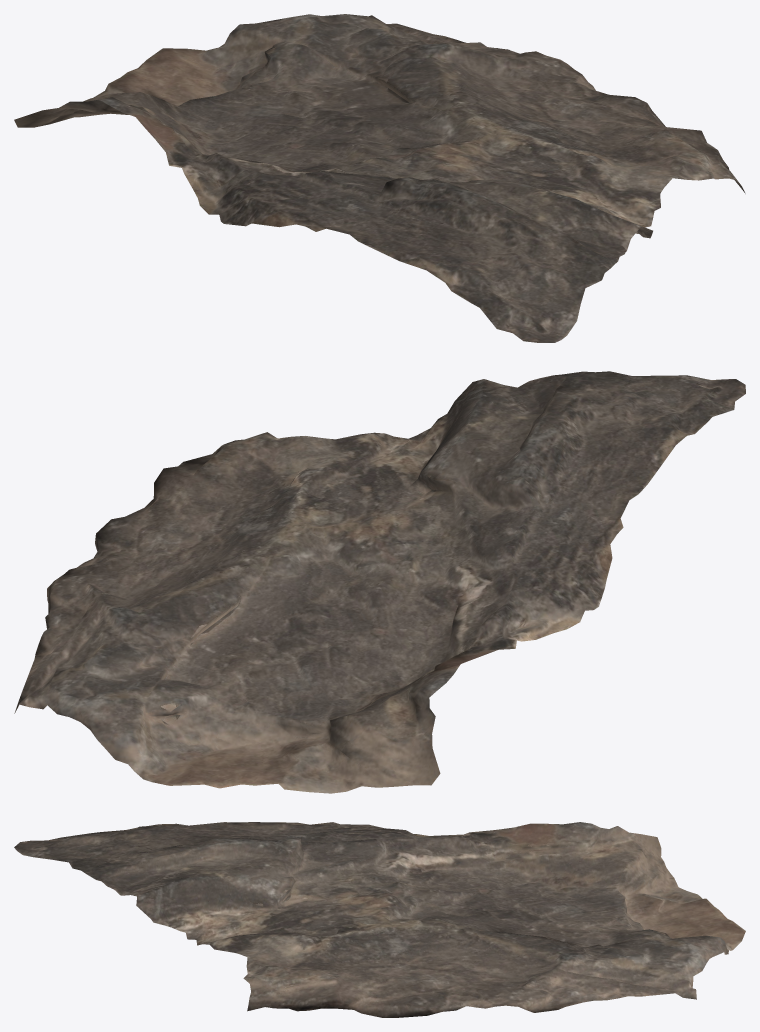
File: rock-basalt-slab-ph09.glb
3 renders of one model, top to bottom at view 1: azimuth 30°, elevation 25°; view 2: azimuth 150°, elevation 25°; view 3: azimuth 270°, elevation 25°, orthographic. The views are drawn at different scales.
Parts seen in each view (by area): view 1: rock-basalt-slab-ph09_LOD0; view 2: rock-basalt-slab-ph09_LOD0; view 3: rock-basalt-slab-ph09_LOD0.
Part boxes in pixels (bbox=[...]): rock-basalt-slab-ph09_LOD0: bbox=[14, 14, 745, 342]; rock-basalt-slab-ph09_LOD0: bbox=[14, 371, 745, 793]; rock-basalt-slab-ph09_LOD0: bbox=[14, 822, 745, 1017].
Size of what is drawn, in the model's own units: 0.8806 by 0.1999 by 1.5.
Materials: 1 (1 with a texture image).
